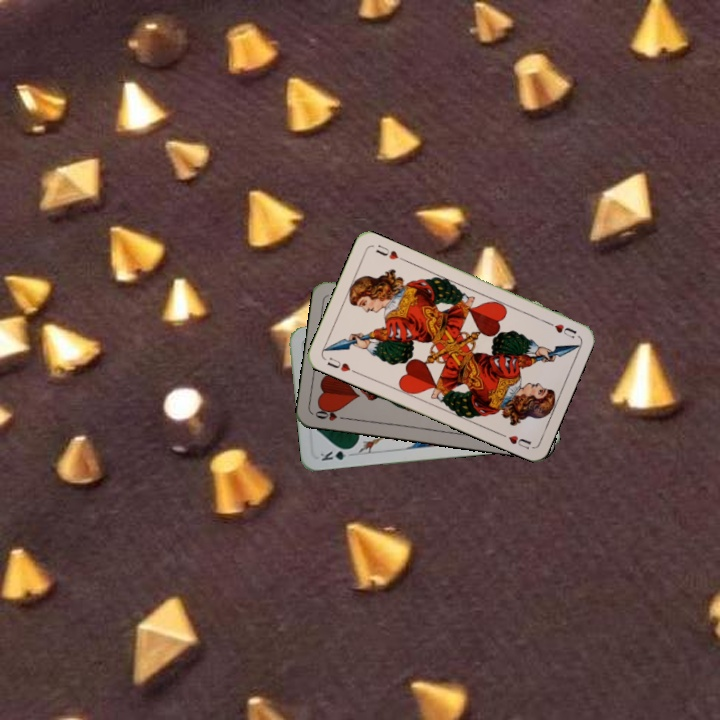GK: (316, 444, 355, 463)
HO: (311, 404, 351, 423)
HU: (542, 317, 579, 341), (323, 353, 359, 376)
